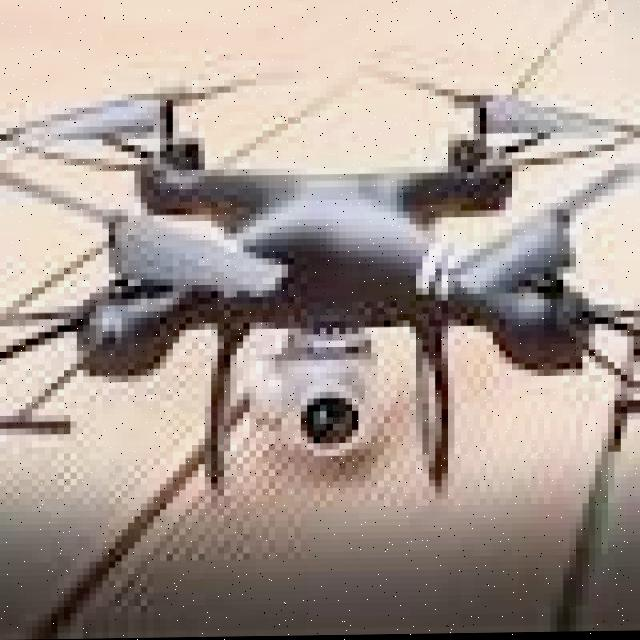drone: (0, 57, 640, 528)
